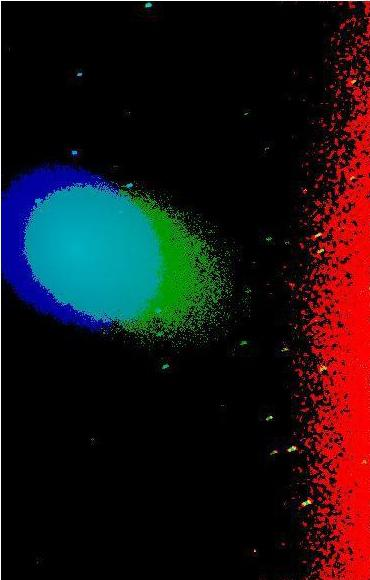star: (97, 20, 127, 50)
